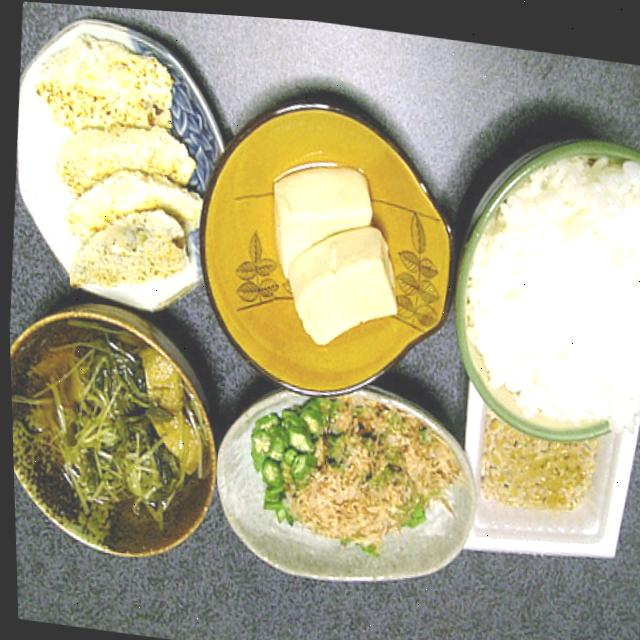米饭主食: (446, 109, 640, 468)
豆腐料理: (228, 127, 411, 353)
